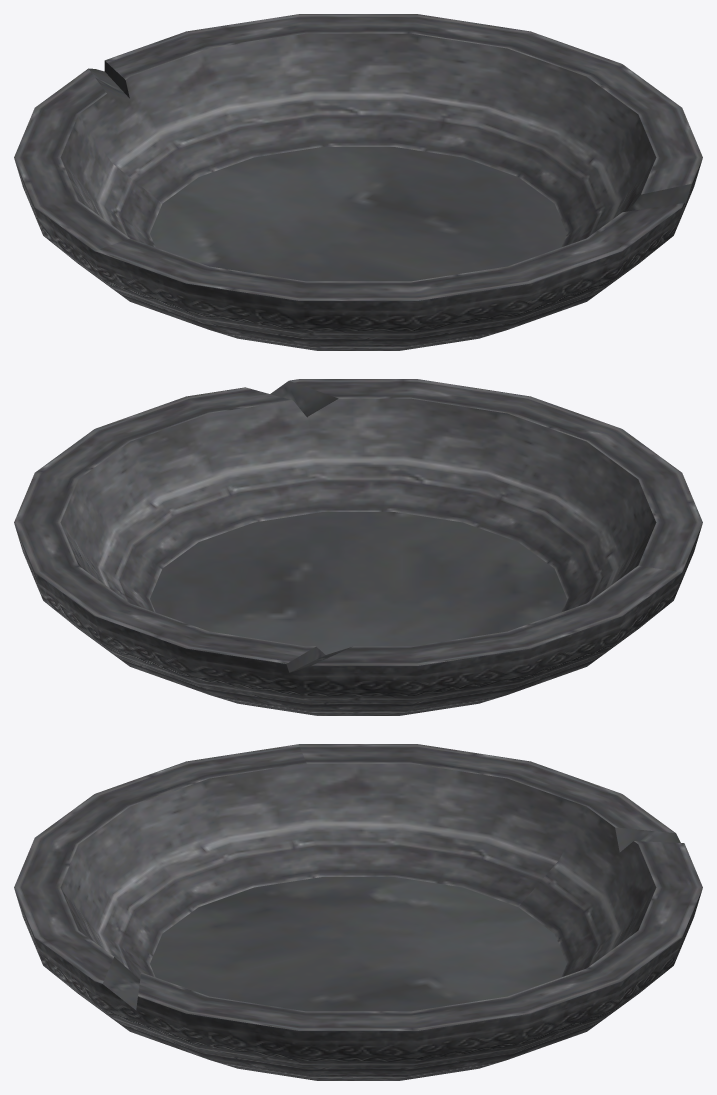
Rendered from vase-05.fbx.
The picture shows the model from 3 angles, top to bottom: view 1: azimuth 30°, elevation 25°; view 2: azimuth 150°, elevation 25°; view 3: azimuth 270°, elevation 25°; orthographic projection.
Visible parts, largest first — view 1: Cylinder.084; view 2: Cylinder.084; view 3: Cylinder.084.
Part boxes in pixels (x1,y1,x2,y2): Cylinder.084: [14, 14, 702, 350]; Cylinder.084: [14, 379, 702, 715]; Cylinder.084: [14, 744, 702, 1080].
Bounding box in the file's own units: 1.58 × 0.2381 × 1.6.
